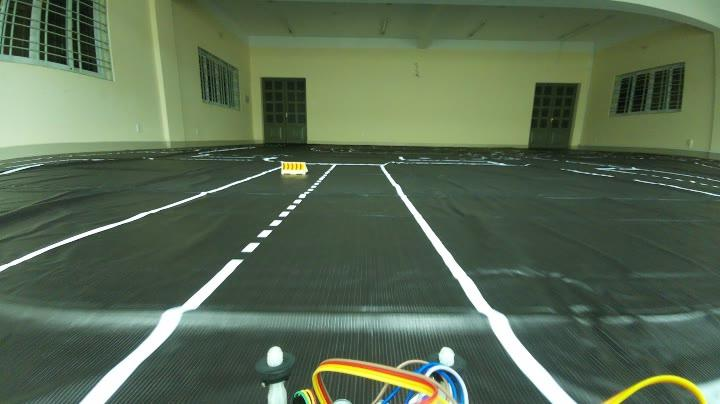roadblock: (278, 156, 308, 176)
